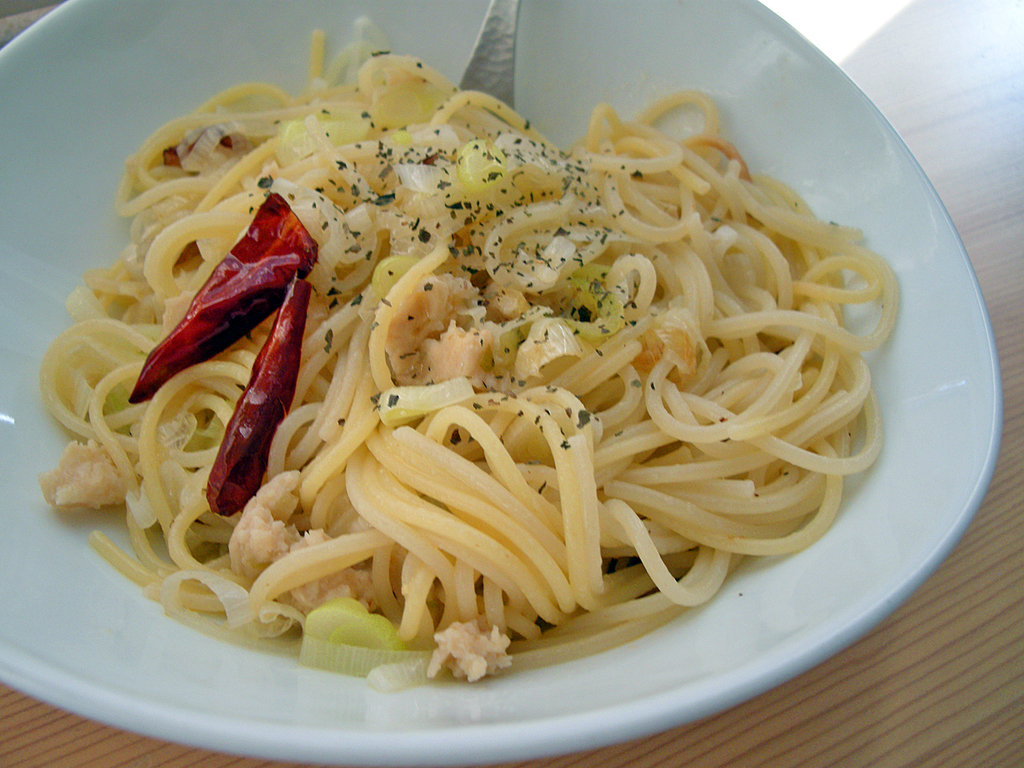pasta: (40, 21, 898, 683)
